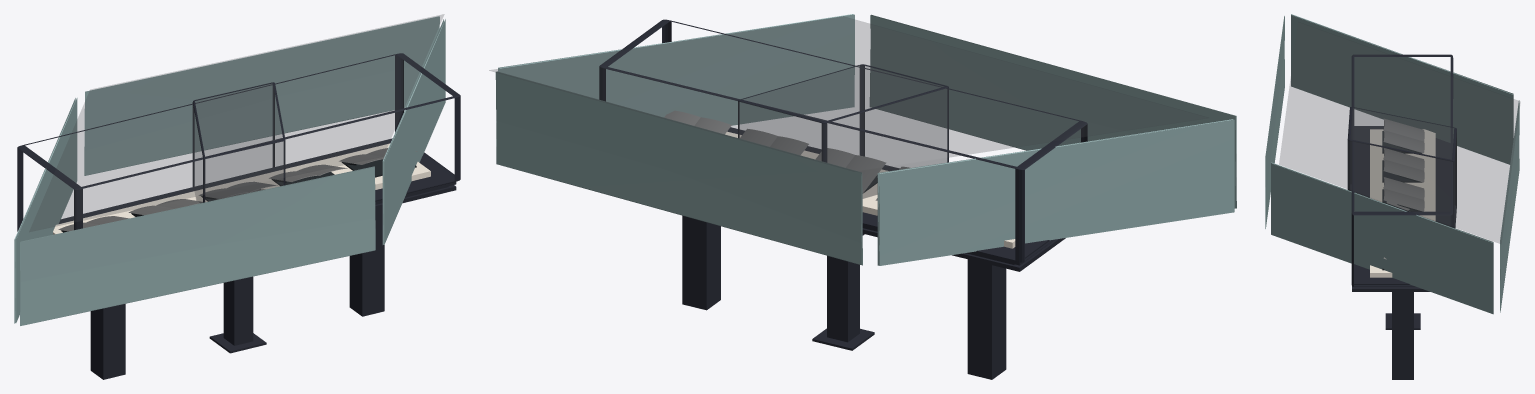
The picture shows the model from 3 angles, left to right: view 1: azimuth 30°, elevation 25°; view 2: azimuth 150°, elevation 25°; view 3: azimuth 270°, elevation 25°; orthographic projection. The views are drawn at different scales.
Visible parts, largest first — view 1: Obj3d66-1471355-227-660, Obj3d66-1471355-221-260, Obj3d66-1471355-223-738, Obj3d66-1471355-222-927, Obj3d66-1471355-225-834, Obj3d66-1471355-242-661, Obj3d66-1471355-241-671, Obj3d66-1471355-247-640, Obj3d66-1471355-240-588, Obj3d66-1471355-228-818, Obj3d66-1471355-230-797, Obj3d66-1471355-232-363 (+2 smaller); view 2: Obj3d66-1471355-227-660, Obj3d66-1471355-221-260, Obj3d66-1471355-241-671, Obj3d66-1471355-222-927, Obj3d66-1471355-242-661, Obj3d66-1471355-225-834, Obj3d66-1471355-223-738, Obj3d66-1471355-247-640, Obj3d66-1471355-240-588, Obj3d66-1471355-230-797, Obj3d66-1471355-228-818, Obj3d66-1471355-226-897; view 3: Obj3d66-1471355-227-660, Obj3d66-1471355-221-260, Obj3d66-1471355-241-671, Obj3d66-1471355-223-738, Obj3d66-1471355-242-661, Obj3d66-1471355-225-834, Obj3d66-1471355-222-927, Obj3d66-1471355-240-588, Obj3d66-1471355-230-797, Obj3d66-1471355-234-586, Obj3d66-1471355-232-363, Obj3d66-1471355-248-850 (+1 smaller).
Part boxes in pixels (x1,y1,x2,y2): Obj3d66-1471355-227-660: (14,16,445,325); Obj3d66-1471355-221-260: (29,14,444,231); Obj3d66-1471355-223-738: (53,138,456,234); Obj3d66-1471355-222-927: (90,208,384,379); Obj3d66-1471355-225-834: (17,53,460,231); Obj3d66-1471355-242-661: (195,84,282,156); Obj3d66-1471355-241-671: (193,83,285,203); Obj3d66-1471355-247-640: (223,276,253,345); Obj3d66-1471355-240-588: (192,82,285,202); Obj3d66-1471355-228-818: (269,164,347,181); Obj3d66-1471355-230-797: (199,181,277,198); Obj3d66-1471355-232-363: (128,199,202,215); Obj3d66-1471355-227-660: (495,14,1236,265); Obj3d66-1471355-221-260: (489,17,1208,171); Obj3d66-1471355-241-671: (739,65,947,198); Obj3d66-1471355-222-927: (682,215,1006,379); Obj3d66-1471355-242-661: (743,65,943,120); Obj3d66-1471355-225-834: (599,19,1087,262); Obj3d66-1471355-223-738: (725,127,1065,271); Obj3d66-1471355-247-640: (827,255,859,342); Obj3d66-1471355-240-588: (738,64,948,162); Obj3d66-1471355-230-797: (815,148,885,192); Obj3d66-1471355-228-818: (740,129,808,154); Obj3d66-1471355-226-897: (664,110,731,134); Obj3d66-1471355-227-660: (1265,14,1519,314); Obj3d66-1471355-221-260: (1279,22,1520,243); Obj3d66-1471355-241-671: (1350,114,1456,226); Obj3d66-1471355-223-738: (1352,127,1450,291); Obj3d66-1471355-242-661: (1351,108,1453,159); Obj3d66-1471355-225-834: (1351,54,1453,286); Obj3d66-1471355-222-927: (1392,292,1413,379); Obj3d66-1471355-240-588: (1347,107,1456,227); Obj3d66-1471355-230-797: (1383,177,1424,211); Obj3d66-1471355-234-586: (1383,118,1424,153); Obj3d66-1471355-232-363: (1383,148,1424,182); Obj3d66-1471355-248-850: (1385,313,1420,329).
Size of the model in its own units: 2486 by 951 by 1166.
